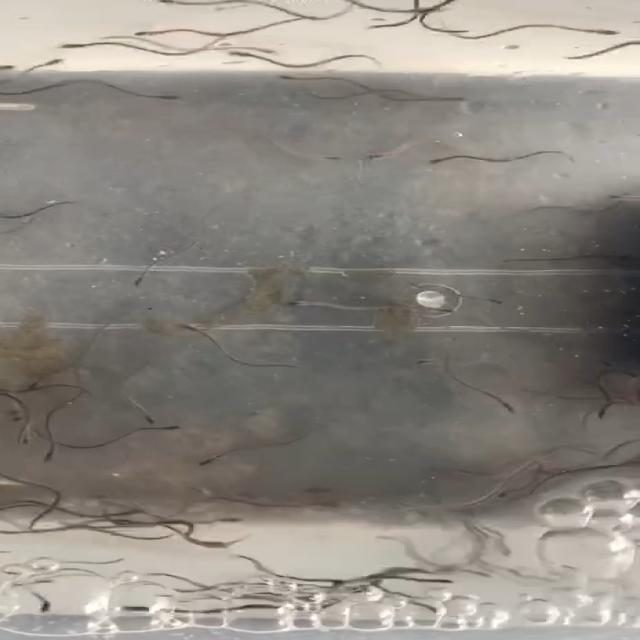active_glass_eel: (158, 319, 232, 340), (288, 490, 342, 518), (285, 141, 340, 168), (426, 146, 475, 174), (310, 478, 367, 502), (401, 353, 452, 379), (105, 267, 164, 289), (356, 141, 402, 168), (214, 44, 273, 64), (200, 504, 243, 531), (126, 399, 174, 423), (278, 296, 329, 318), (564, 20, 612, 43), (27, 56, 85, 74), (191, 536, 243, 556), (54, 37, 103, 58), (140, 90, 196, 108), (391, 3, 447, 19), (580, 404, 617, 428), (187, 454, 236, 472), (114, 25, 164, 42), (266, 70, 316, 87), (484, 398, 528, 416), (29, 450, 78, 466), (32, 597, 64, 618), (148, 418, 186, 434), (409, 561, 446, 577), (415, 573, 452, 589), (85, 509, 125, 522), (152, 0, 198, 8), (6, 526, 28, 540)
